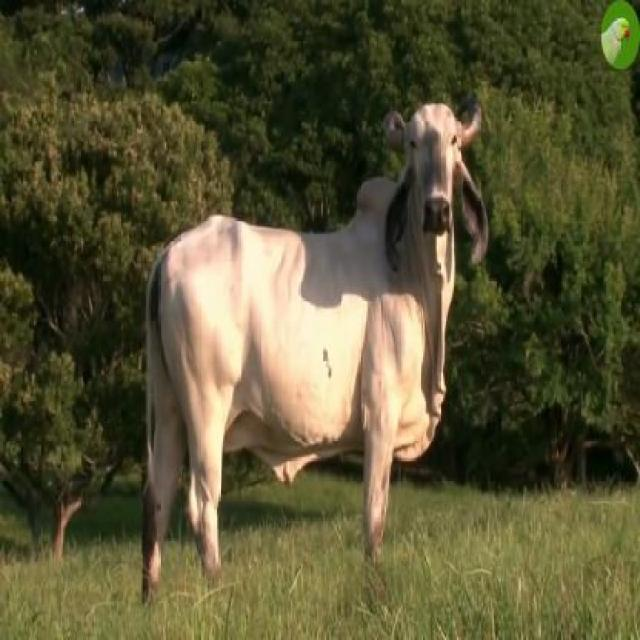Cow: (138, 94, 491, 598)
